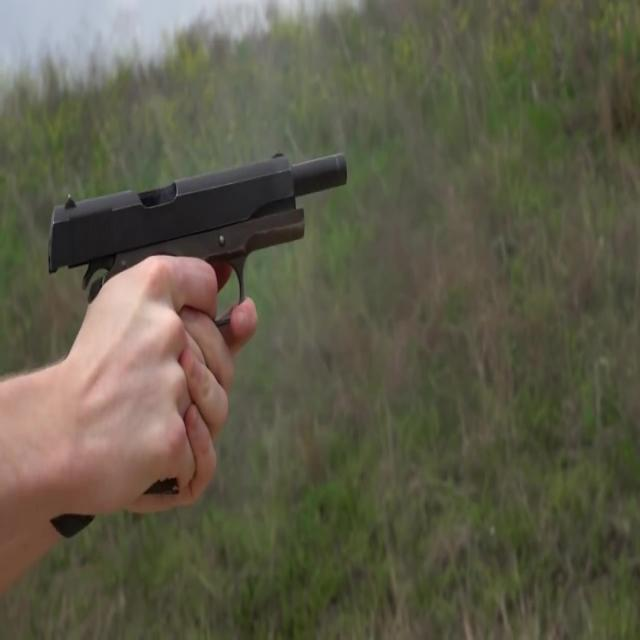Weapon: (34, 131, 373, 477)
